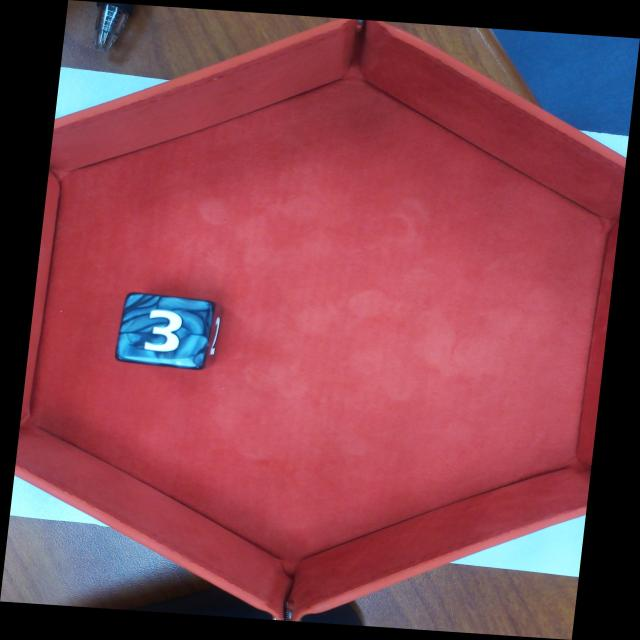dice: (116, 294, 210, 366)
